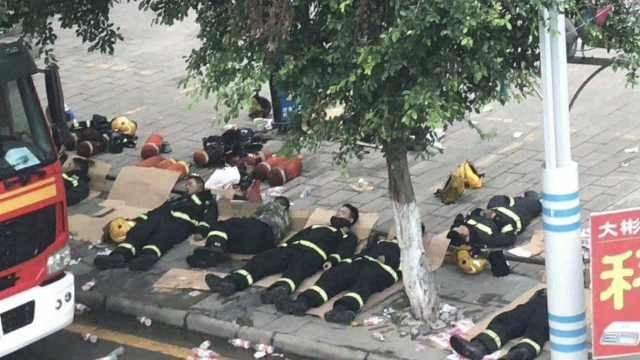falling: (242, 136, 308, 194)
